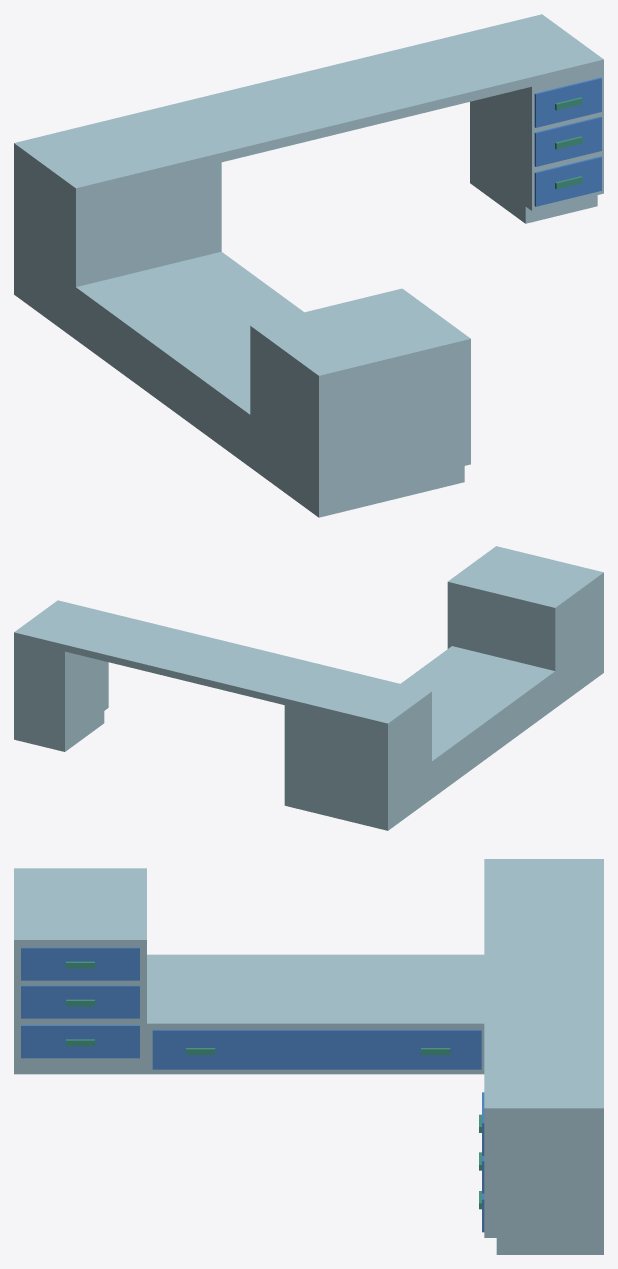
The model's file is Bedroom3_Bed_Construction.fbx.
The picture shows the model from 3 angles, top to bottom: view 1: azimuth 30°, elevation 25°; view 2: azimuth 150°, elevation 25°; view 3: azimuth 270°, elevation 25°; orthographic projection. The views are drawn at different scales.
Visible parts, largest first — view 1: Bedroom3_Bed_Construction; view 2: Bedroom3_Bed_Construction; view 3: Bedroom3_Bed_Construction.
Part boxes in pixels (x1,y1,x2,y2): Bedroom3_Bed_Construction: [14, 14, 603, 517]; Bedroom3_Bed_Construction: [14, 546, 603, 830]; Bedroom3_Bed_Construction: [14, 859, 603, 1254].
Size of the model in its own units: 489 by 134 by 489.
